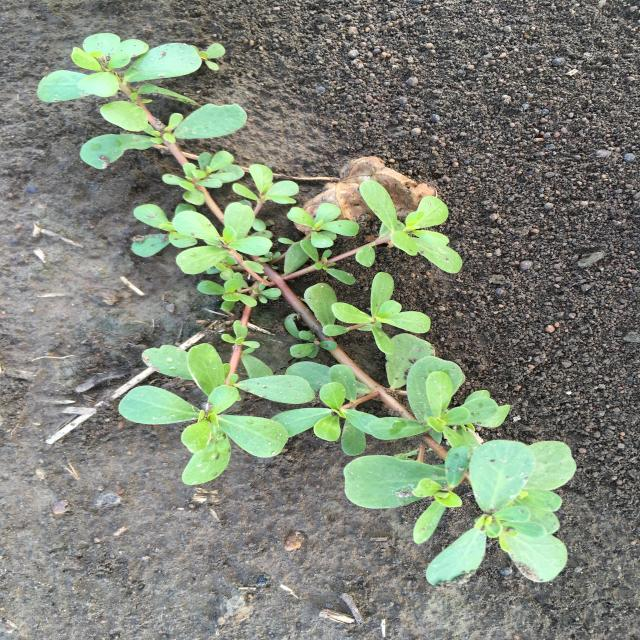Purslane: (37, 33, 577, 586)
